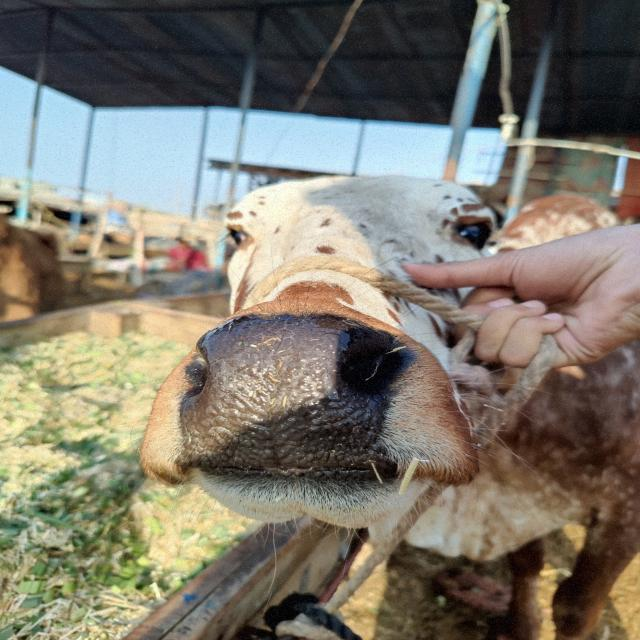muzzles: (172, 309, 426, 497)
